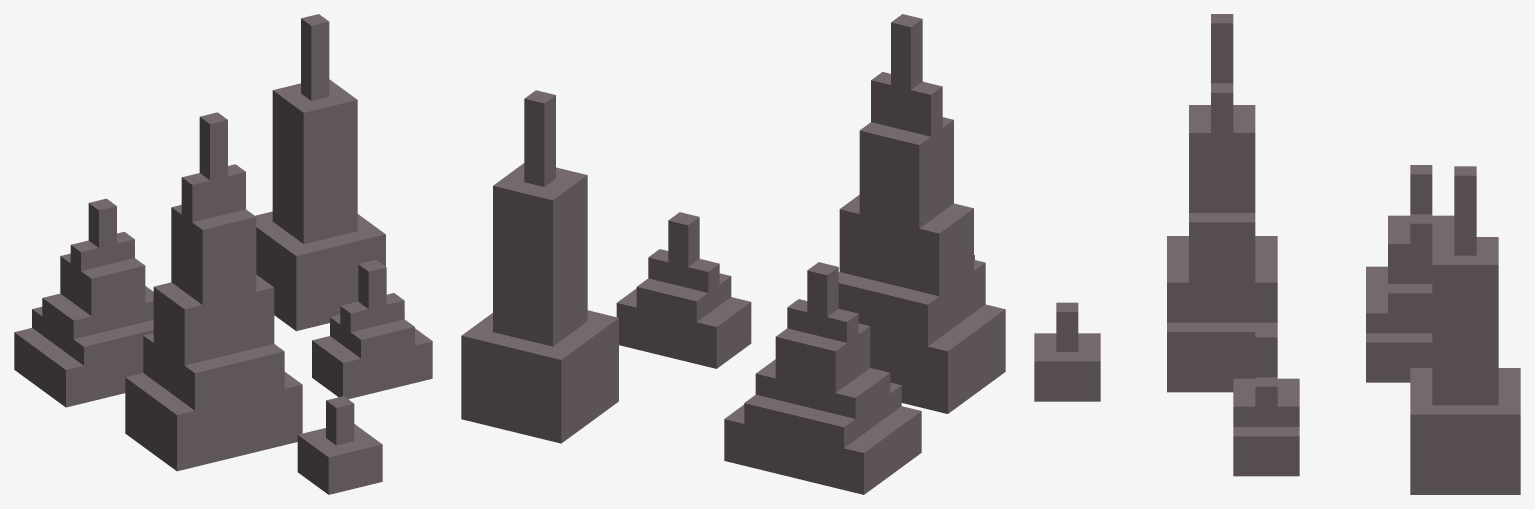
Rendered from spikes.fbx.
The picture shows the model from 3 angles, left to right: view 1: azimuth 30°, elevation 25°; view 2: azimuth 150°, elevation 25°; view 3: azimuth 270°, elevation 25°; orthographic projection. The views are drawn at different scales.
Visible parts, largest first — view 1: spikes; view 2: spikes; view 3: spikes.
Boxes of the visible parts, x1,y1,x2,y2 form: spikes: (14,14,432,494); spikes: (461,14,1005,494); spikes: (1034,14,1520,494).
Size of the model in its own units: 19 by 17 by 22.
1 material, 1 textured.
